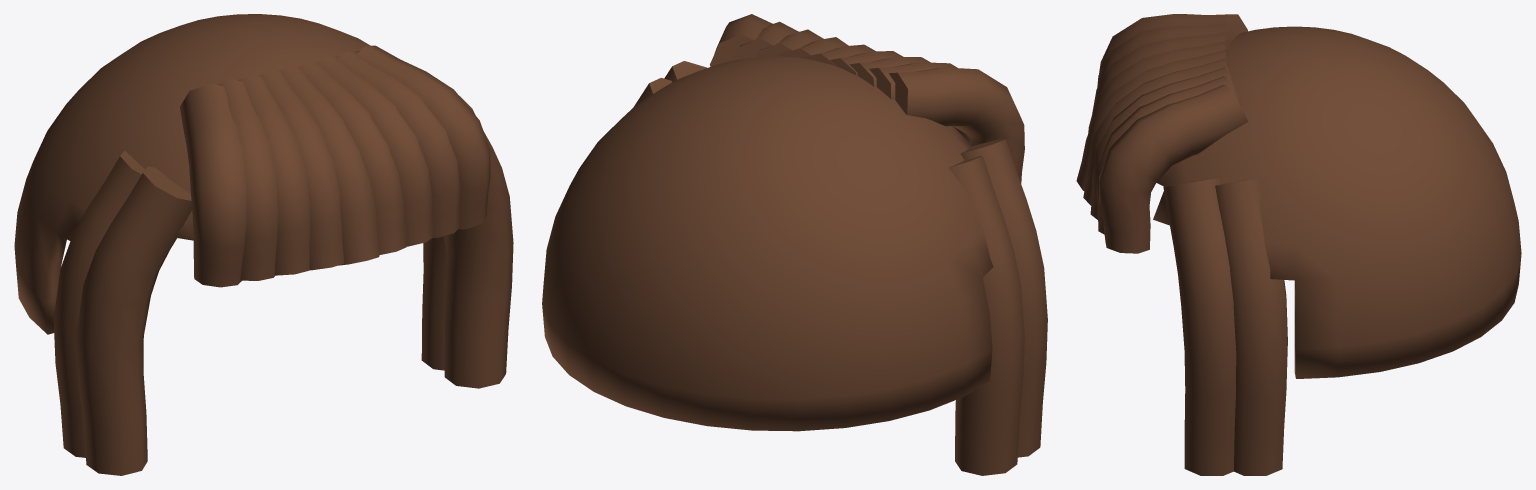
Rendered from hair_hime.glb.
3 renders of one model, left to right at view 1: azimuth 30°, elevation 25°; view 2: azimuth 150°, elevation 25°; view 3: azimuth 270°, elevation 25°, orthographic. The views are drawn at different scales.
Visible parts, largest first — view 1: lock; view 2: lock; view 3: lock.
Boxes of the visible parts, bbox=[...] form: lock: bbox=[14, 14, 513, 475]; lock: bbox=[542, 14, 1047, 475]; lock: bbox=[1076, 14, 1521, 475].
Size of the model in its own units: 2.37 by 1.88 by 2.27.
